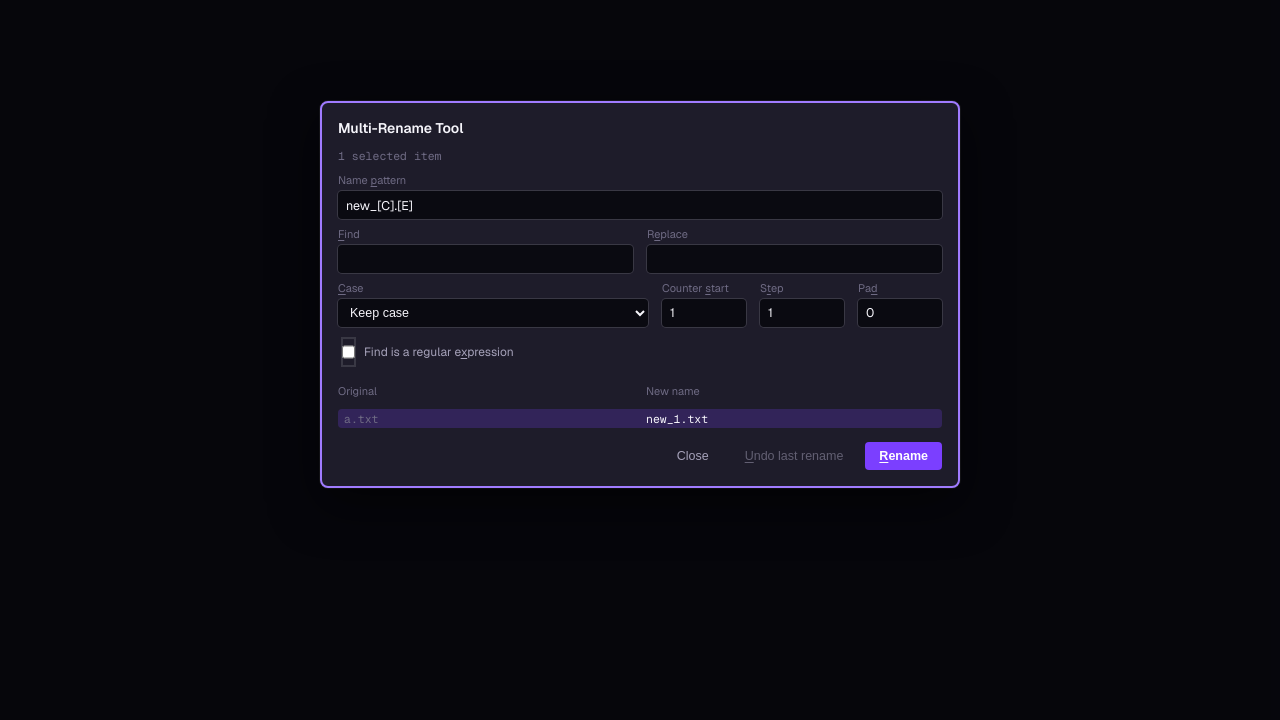
Scenario: MultiRenameDialog › executes the run via IPC, reports the outcome, and refreshes the pane
Click the button "Rename" at (904, 456), box [865,442,942,470]
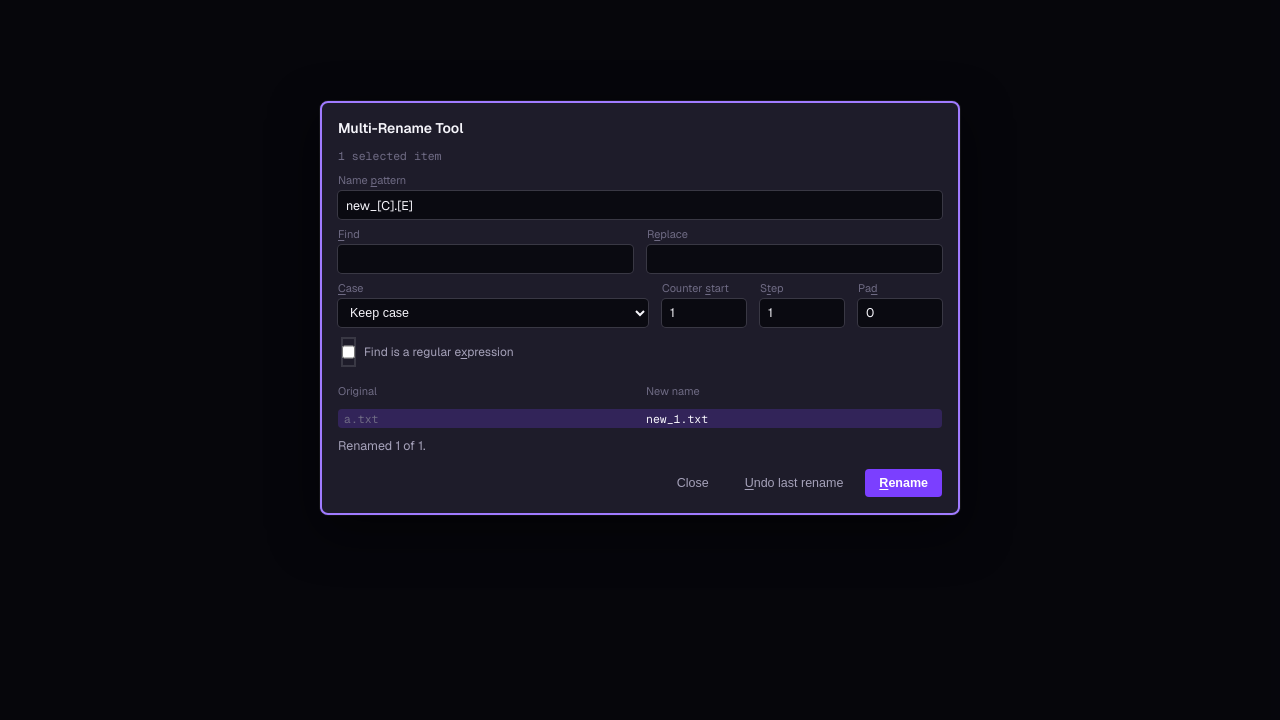
Expected: the text "Renamed 1 of 1." is shown, [338,437,426,454]
Expected: the button "Undo last rename" is enabled, [731,469,857,497]
